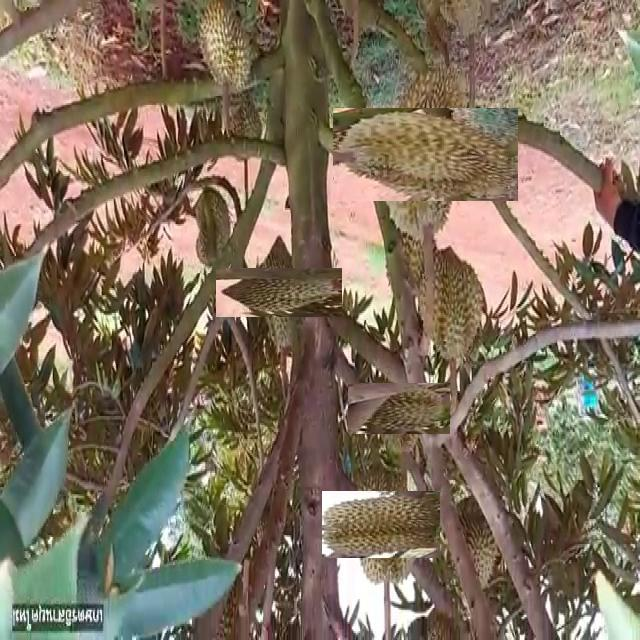durian: (356, 84, 495, 224), (414, 242, 488, 365), (336, 477, 431, 572), (235, 249, 323, 337), (440, 492, 506, 596), (194, 2, 257, 99), (361, 371, 437, 447), (218, 78, 265, 160), (190, 188, 232, 272)
